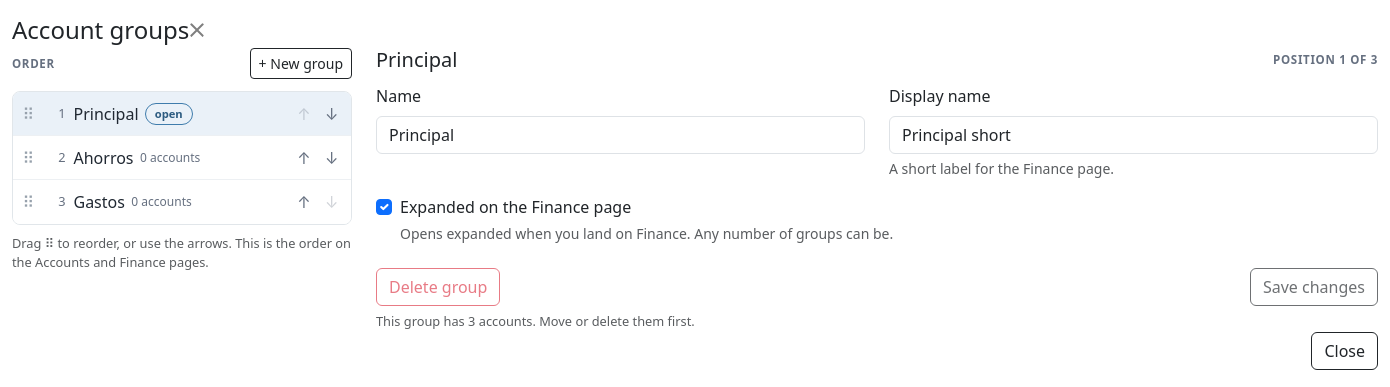
Test: AccountsGroupsComponent template › keeps Save disabled until something changes
Expected: the button with id "save-group" is disabled, top-left (1250, 268), bottom-right (1378, 306)
Replace the text in the field with id "group-name" with "Principal renamed": coordinates (620, 135) top-left (376, 116), bottom-right (865, 154)
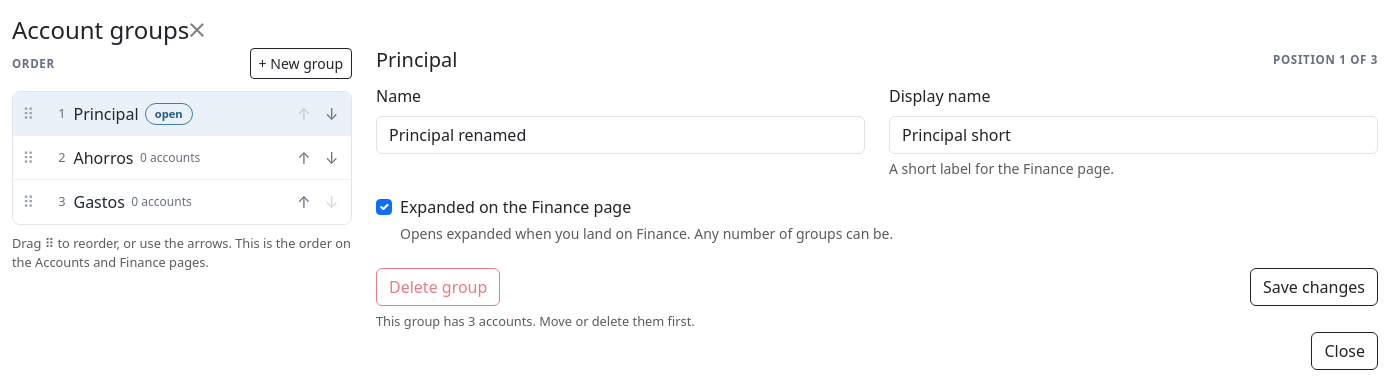
Expected: the button with id "save-group" is enabled, top-left (1250, 268), bottom-right (1378, 306)
